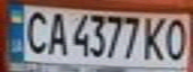3: (87, 11, 109, 58)
4: (66, 10, 90, 57)
7: (121, 14, 142, 61), (106, 12, 124, 60)
A: (42, 9, 69, 56)
C: (21, 8, 51, 55)
K: (139, 14, 169, 62)
O: (160, 15, 193, 62)
